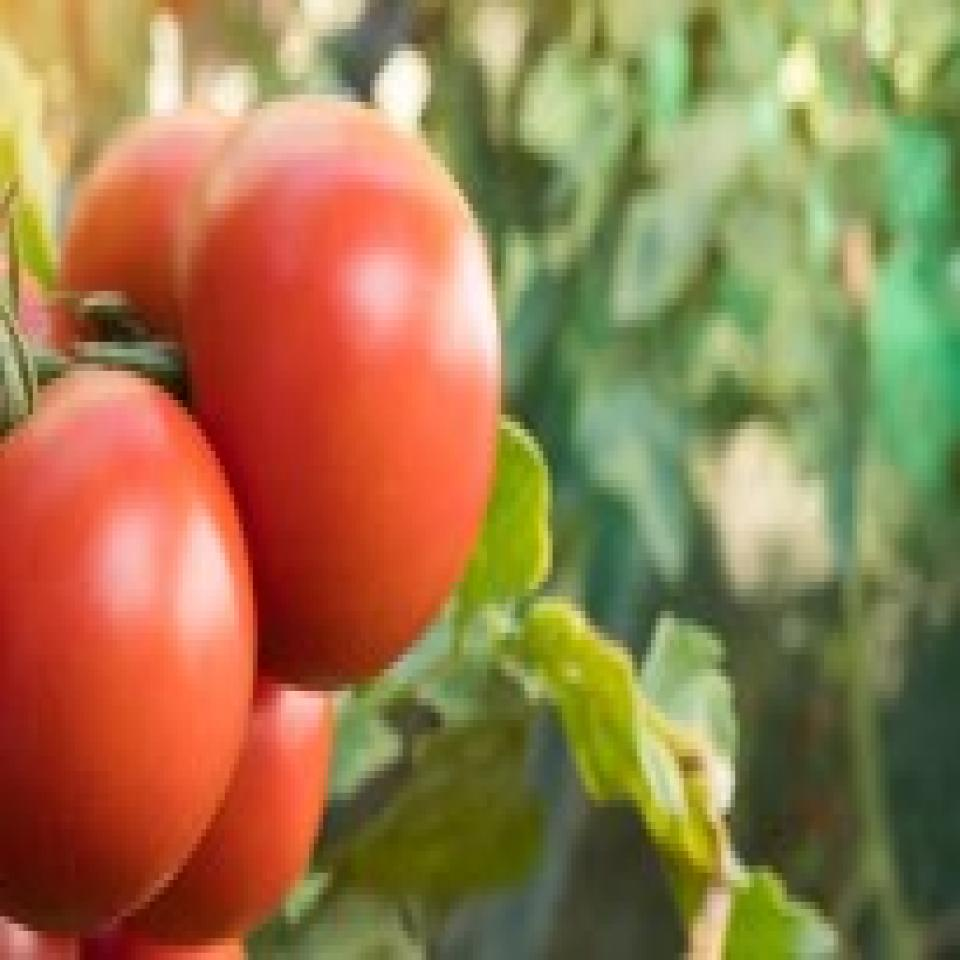Healthy: (183, 89, 588, 682), (0, 247, 248, 924), (56, 106, 331, 507)
